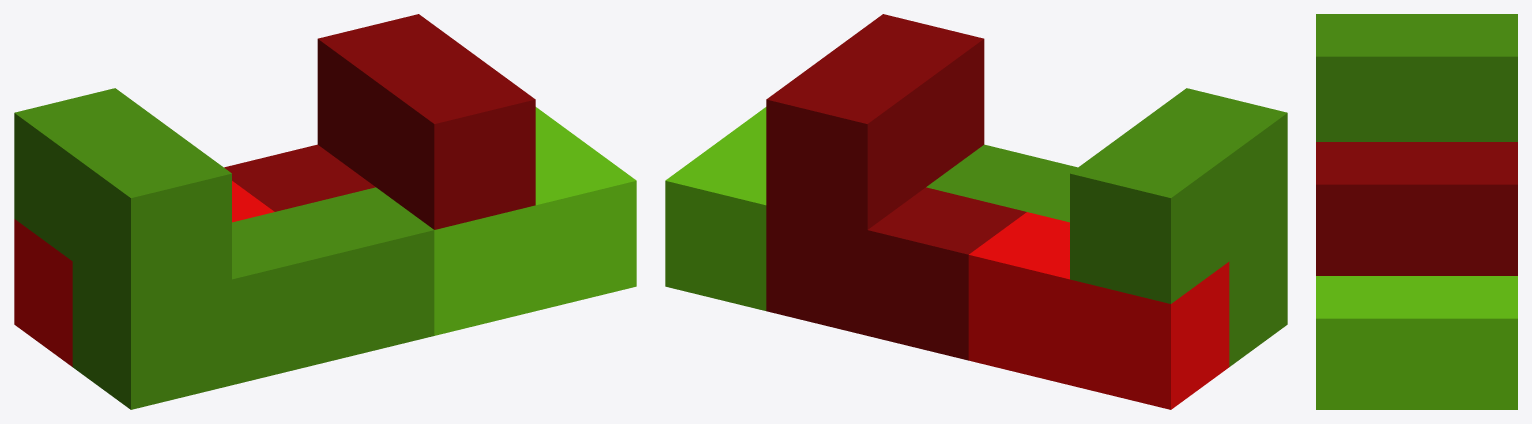
3 views of the same model, side by side, from view 1: azimuth 30°, elevation 25°; view 2: azimuth 150°, elevation 25°; view 3: azimuth 270°, elevation 25° (orthographic). The views are drawn at different scales.
Parts seen in each view (by area): view 1: mergedBlocks(Clone); view 2: mergedBlocks(Clone); view 3: mergedBlocks(Clone).
Part boxes in pixels (bbox=[...]): mergedBlocks(Clone): bbox=[14, 14, 636, 409]; mergedBlocks(Clone): bbox=[665, 14, 1287, 409]; mergedBlocks(Clone): bbox=[1316, 14, 1517, 409].
Bounding box in the file's own units: 5 × 2 × 2.
Materials: 4 (4 with a texture image).
